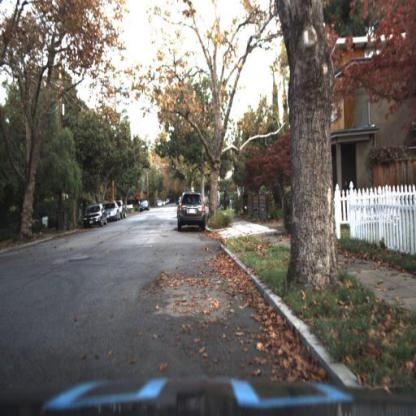car: (175, 189, 208, 233), (84, 203, 108, 231), (106, 201, 119, 227), (139, 199, 151, 214), (119, 200, 126, 221)
